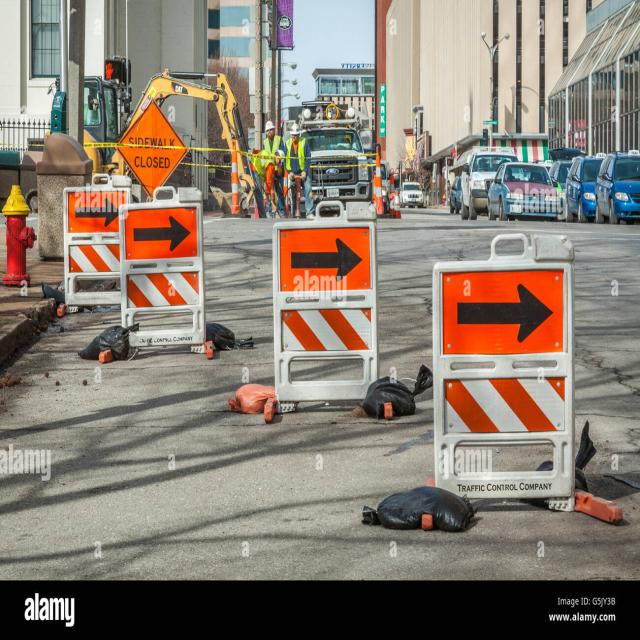cone: (431, 231, 576, 511), (54, 144, 210, 384), (267, 189, 389, 418)
